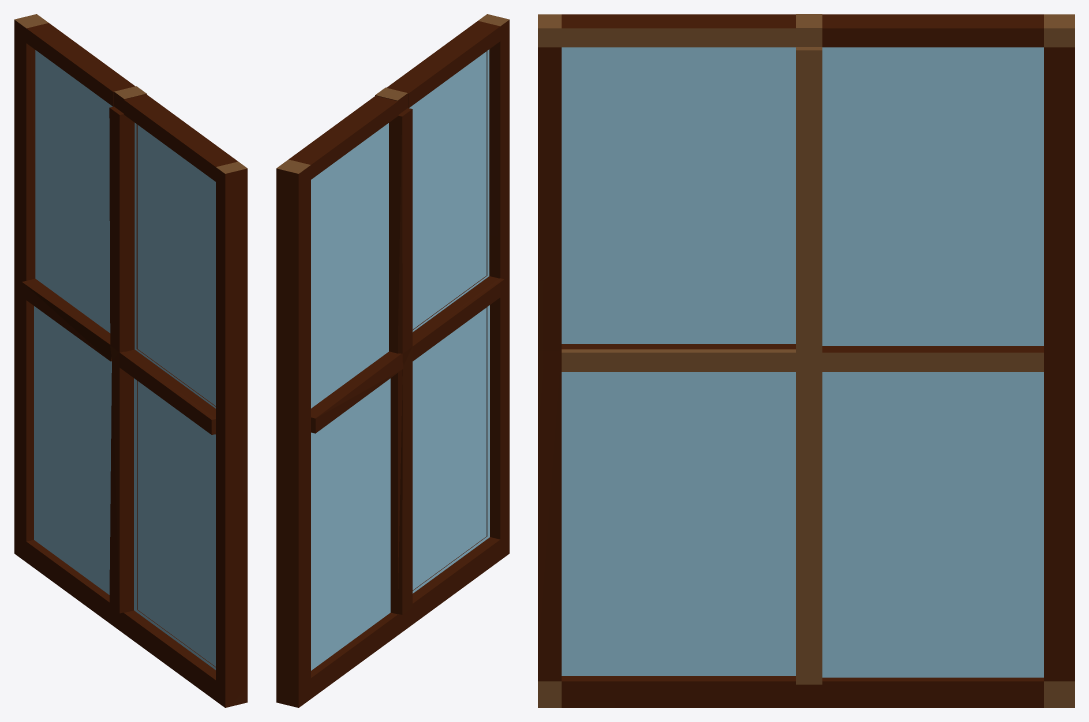
Rendered from Window.dae.
The picture shows the model from 3 angles, left to right: view 1: azimuth 30°, elevation 25°; view 2: azimuth 150°, elevation 25°; view 3: azimuth 270°, elevation 25°; orthographic projection. The views are drawn at different scales.
Parts seen in each view (by area): view 1: Cube.002, Cube, Cube.001; view 2: Cube.002, Cube, Cube.001; view 3: Cube.002, Cube, Cube.001.
Part boxes in pixels (x1,y1,x2,y2): Cube.002: (34, 50, 215, 669); Cube: (14, 20, 247, 707); Cube.001: (14, 14, 247, 173); Cube.002: (311, 49, 489, 670); Cube: (276, 20, 509, 707); Cube.001: (276, 14, 509, 173); Cube.002: (561, 47, 1043, 677); Cube: (538, 14, 1074, 707); Cube.001: (538, 14, 1074, 707).
Size of the model in its own units: 0.182 by 2 by 2.8.
